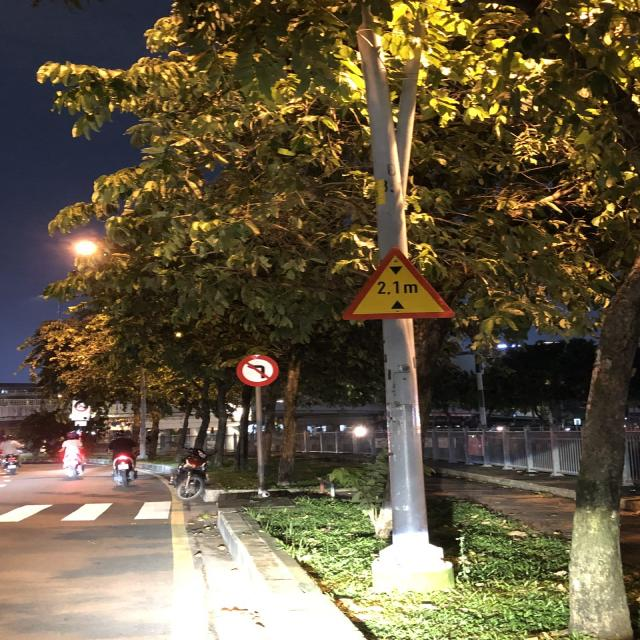Bien bao cam re trai: (233, 351, 284, 388)
Bien bao chieu cao tinh khong thuc te: (331, 243, 465, 320)
